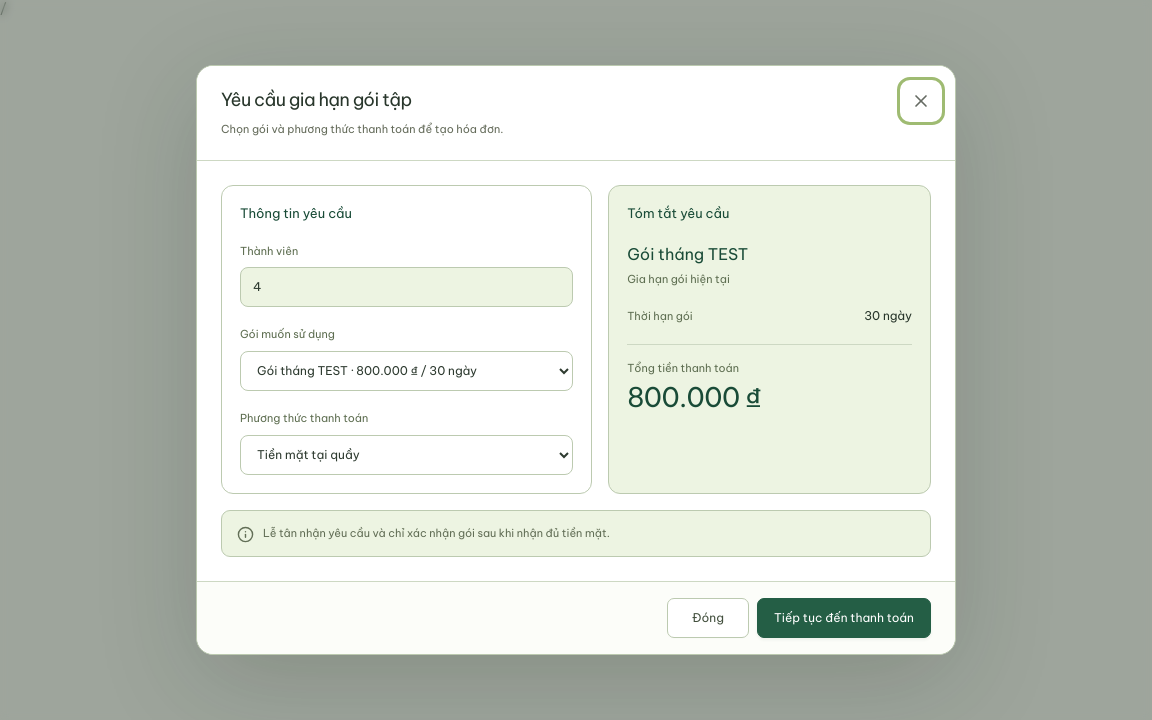
Test: Gia hạn qua hóa đơn chờ — mock hợp đồng API, không phải backend thật › selects bank transfer and reuses the idempotency key when retrying a lost response
Select "Chuyển khoản QR" in the dropdown labelled "Phương thức thanh toán" at (407, 455), box [240,435,573,475]
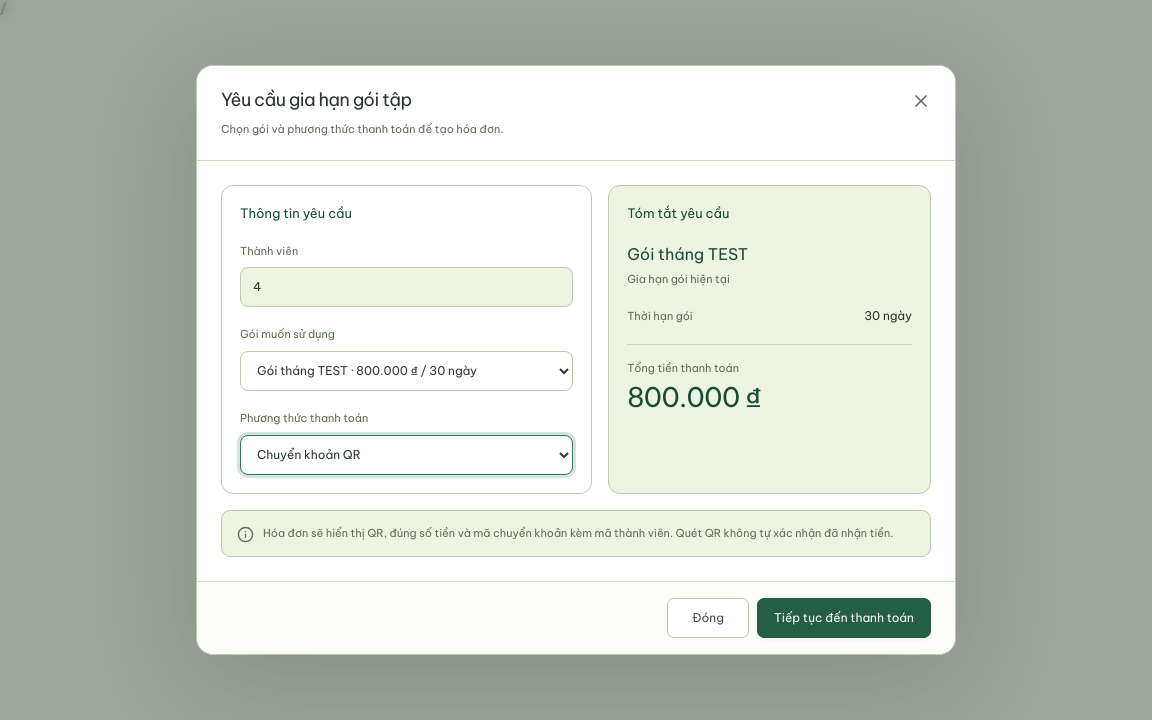
Click the button "Tiếp tục đến thanh toán".
click(844, 618)  # box [757,598,931,638]
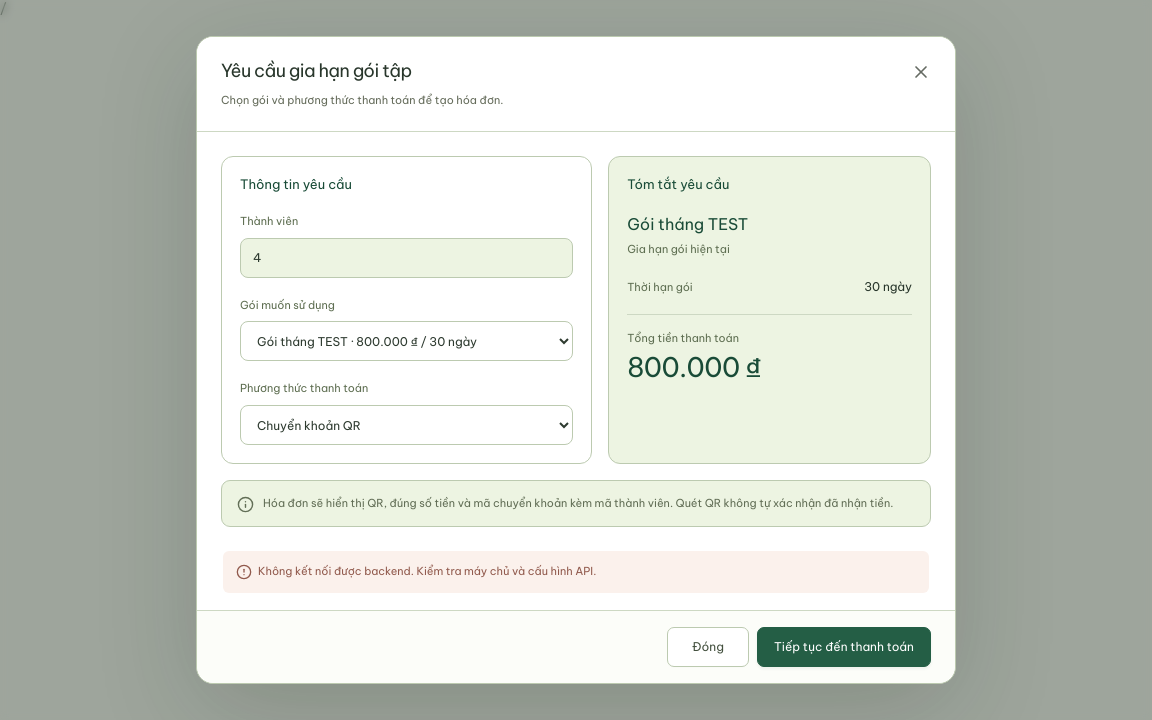
Check: the message shows "Không kết nối", box [258,564,596,578]
Click the button "Tiếp tục đến thanh toán".
click(844, 647)  # box [757,627,931,667]
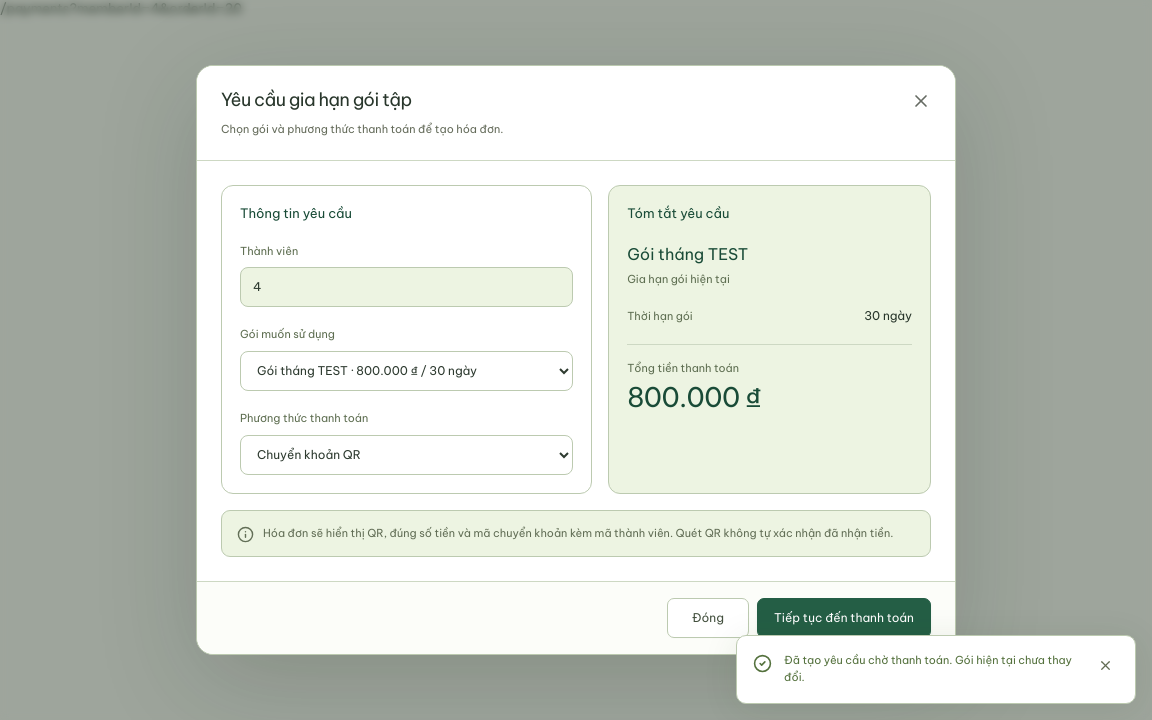
Check: the text named "Đường dẫn hiện tại" shows "orderId=20", box [0,0,242,16]
